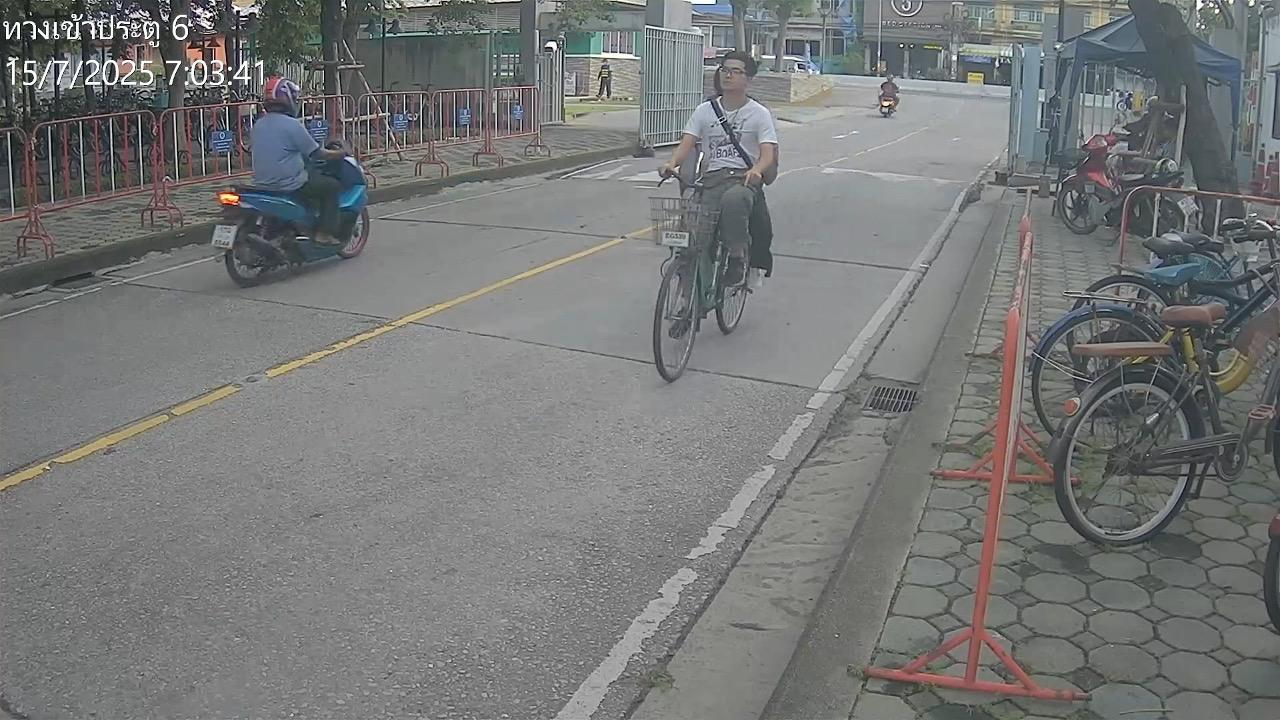With-Helmet: (264, 76, 301, 118)
